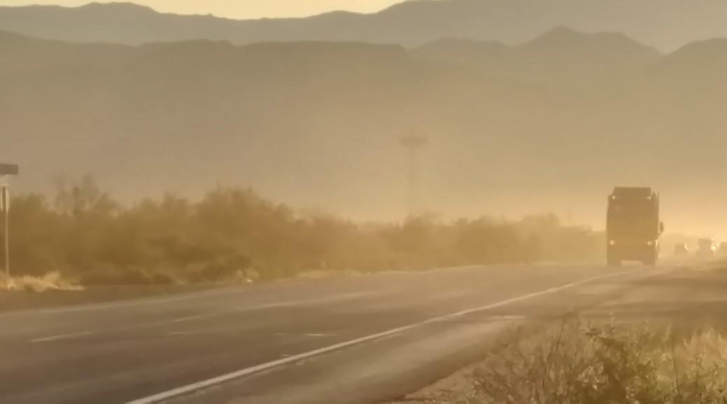airplane: (220, 257, 261, 287)
bus: (605, 188, 664, 268)
car: (605, 187, 663, 269), (659, 243, 689, 267), (670, 241, 703, 261), (686, 239, 716, 260), (673, 243, 691, 258), (683, 242, 700, 257)
cow: (605, 187, 663, 269)
fire hydrant: (605, 187, 663, 269)
motorcycle: (605, 187, 663, 269), (234, 260, 260, 285)
person: (648, 215, 666, 267)
suitcase: (605, 187, 663, 269)
traffic light: (605, 187, 663, 269)
train: (605, 190, 664, 268)
truck: (506, 178, 669, 259), (583, 172, 689, 262), (605, 187, 663, 268)
